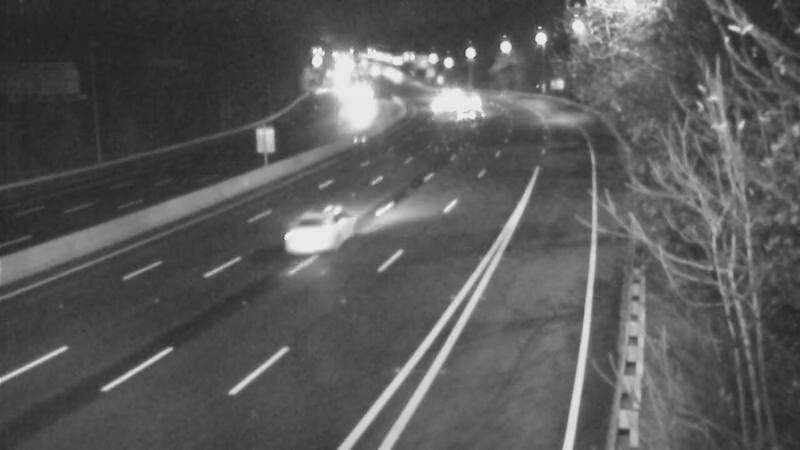vehicle: (285, 181, 365, 261), (426, 66, 476, 116), (414, 79, 464, 129), (444, 72, 494, 122), (440, 93, 490, 143), (330, 82, 380, 132)
